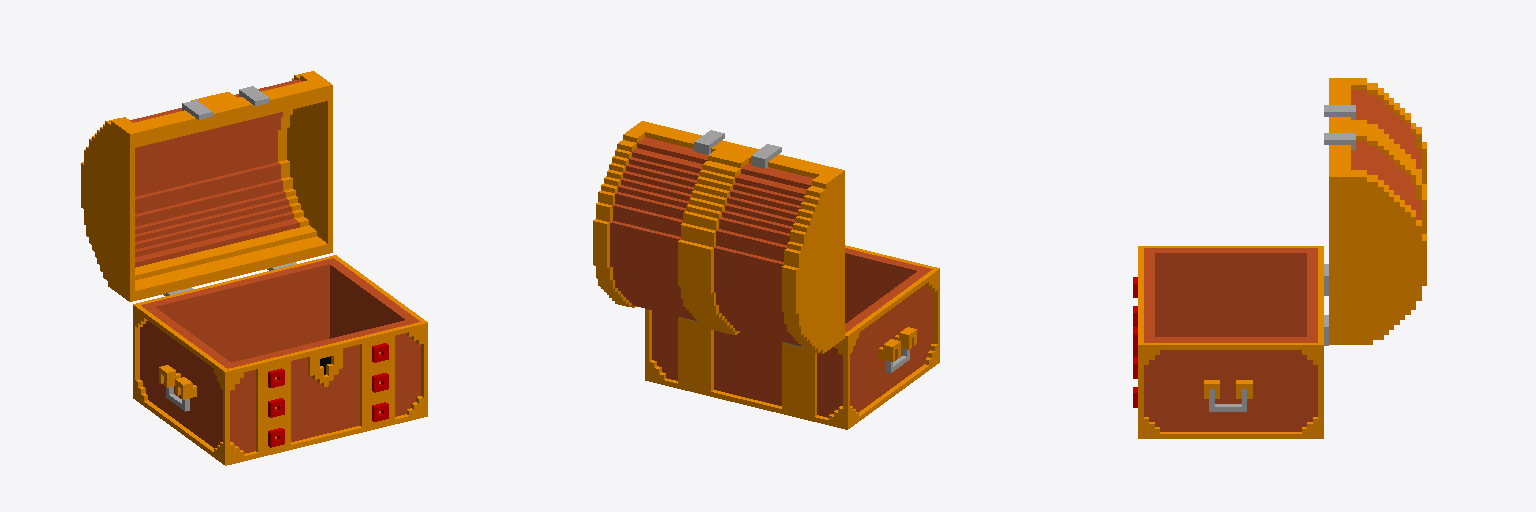
3 views of the same model, side by side, from view 1: azimuth 30°, elevation 25°; view 2: azimuth 150°, elevation 25°; view 3: azimuth 270°, elevation 25° (orthographic).
Size of the model in its own units: 47 by 54 by 54.
Materials: 1 (1 with a texture image).